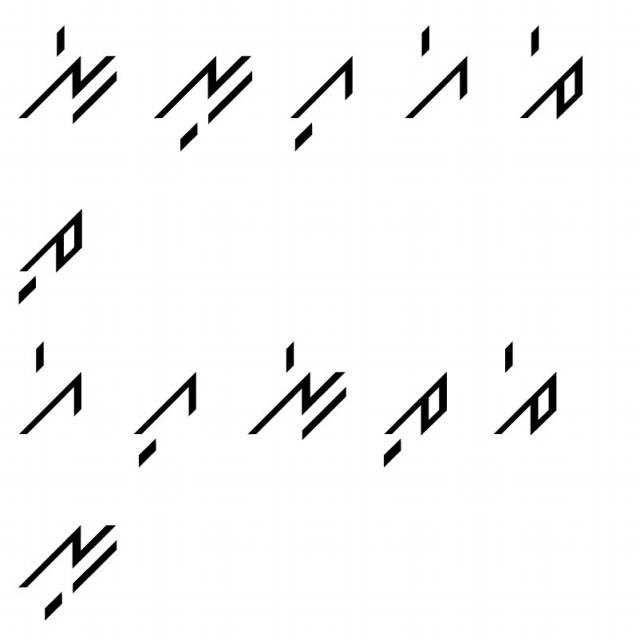ge: (400, 23, 478, 128), (13, 335, 86, 441)
gu: (127, 359, 203, 469), (284, 52, 361, 151)
nge: (241, 333, 351, 450), (18, 20, 124, 136)
ngu: (150, 43, 260, 154), (15, 512, 123, 624)
te: (517, 22, 593, 133), (491, 337, 568, 443)
tu: (13, 197, 91, 307), (380, 359, 452, 475)
